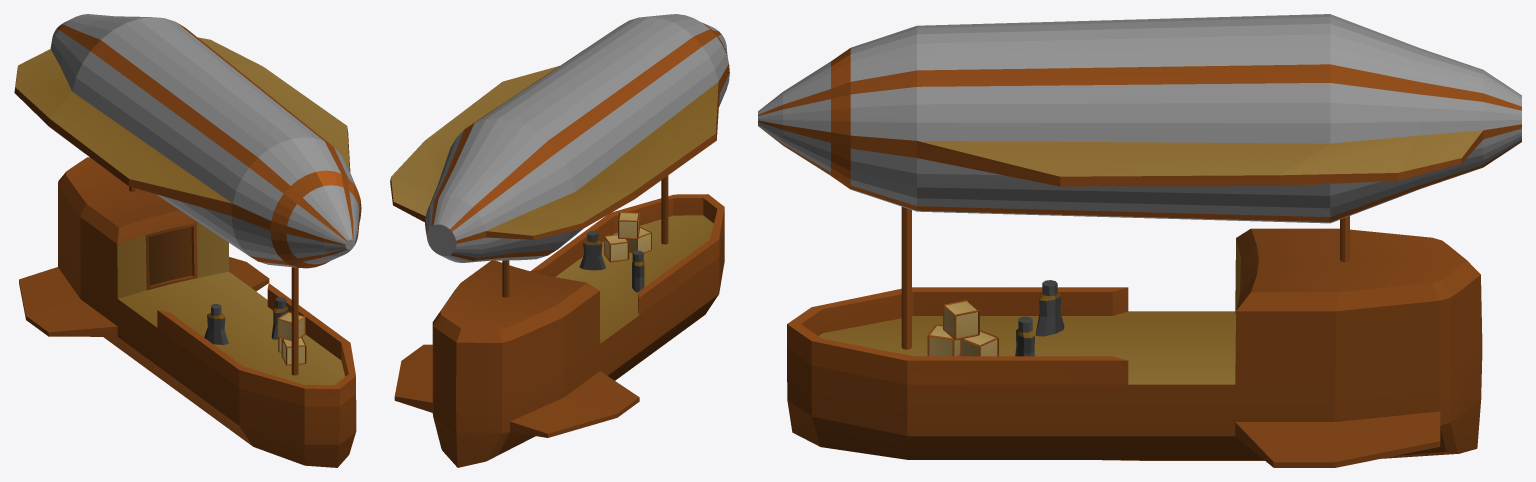
Rendered from FlyBoat.glb.
3 renders of one model, left to right at view 1: azimuth 30°, elevation 25°; view 2: azimuth 150°, elevation 25°; view 3: azimuth 270°, elevation 25°, orthographic. The views are drawn at different scales.
Visible parts, largest first — view 1: FlyBoat; view 2: FlyBoat; view 3: FlyBoat.
Boxes of the visible parts, x1,y1,x2,y2 form: FlyBoat: (14, 14, 361, 467); FlyBoat: (390, 14, 729, 467); FlyBoat: (758, 14, 1521, 467).
Bounding box in the file's own units: 12.78 × 17.62 × 28.4.
1 material, 1 textured.
